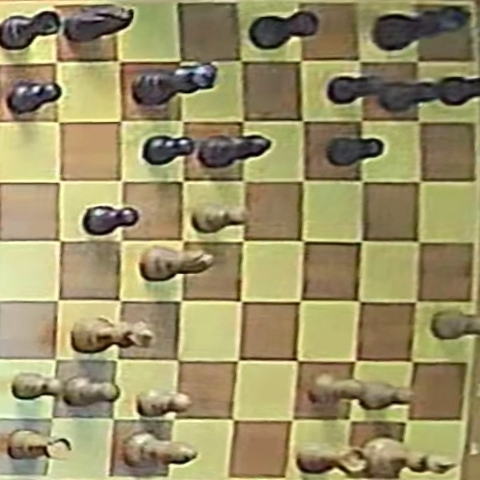black-bishop: (198, 135, 270, 168)
black-king: (375, 6, 468, 51)
black-knight: (64, 5, 133, 42)
black-pawn: (328, 75, 396, 106), (379, 78, 441, 111), (7, 79, 60, 115), (327, 136, 384, 166), (83, 205, 139, 235), (144, 136, 196, 166), (436, 74, 478, 106)
black-queen: (134, 63, 215, 105)
black-rook: (251, 11, 319, 49), (0, 10, 61, 50)
white-bishop: (122, 431, 197, 467), (140, 246, 214, 281)
white-king: (362, 435, 457, 477)
white-pawn: (312, 374, 369, 408), (63, 377, 120, 406), (193, 203, 248, 233), (357, 381, 413, 409), (137, 389, 192, 417), (432, 310, 479, 340), (12, 372, 62, 400)
white-queen: (73, 315, 151, 352)
white-rook: (296, 442, 367, 474), (6, 430, 72, 460)
